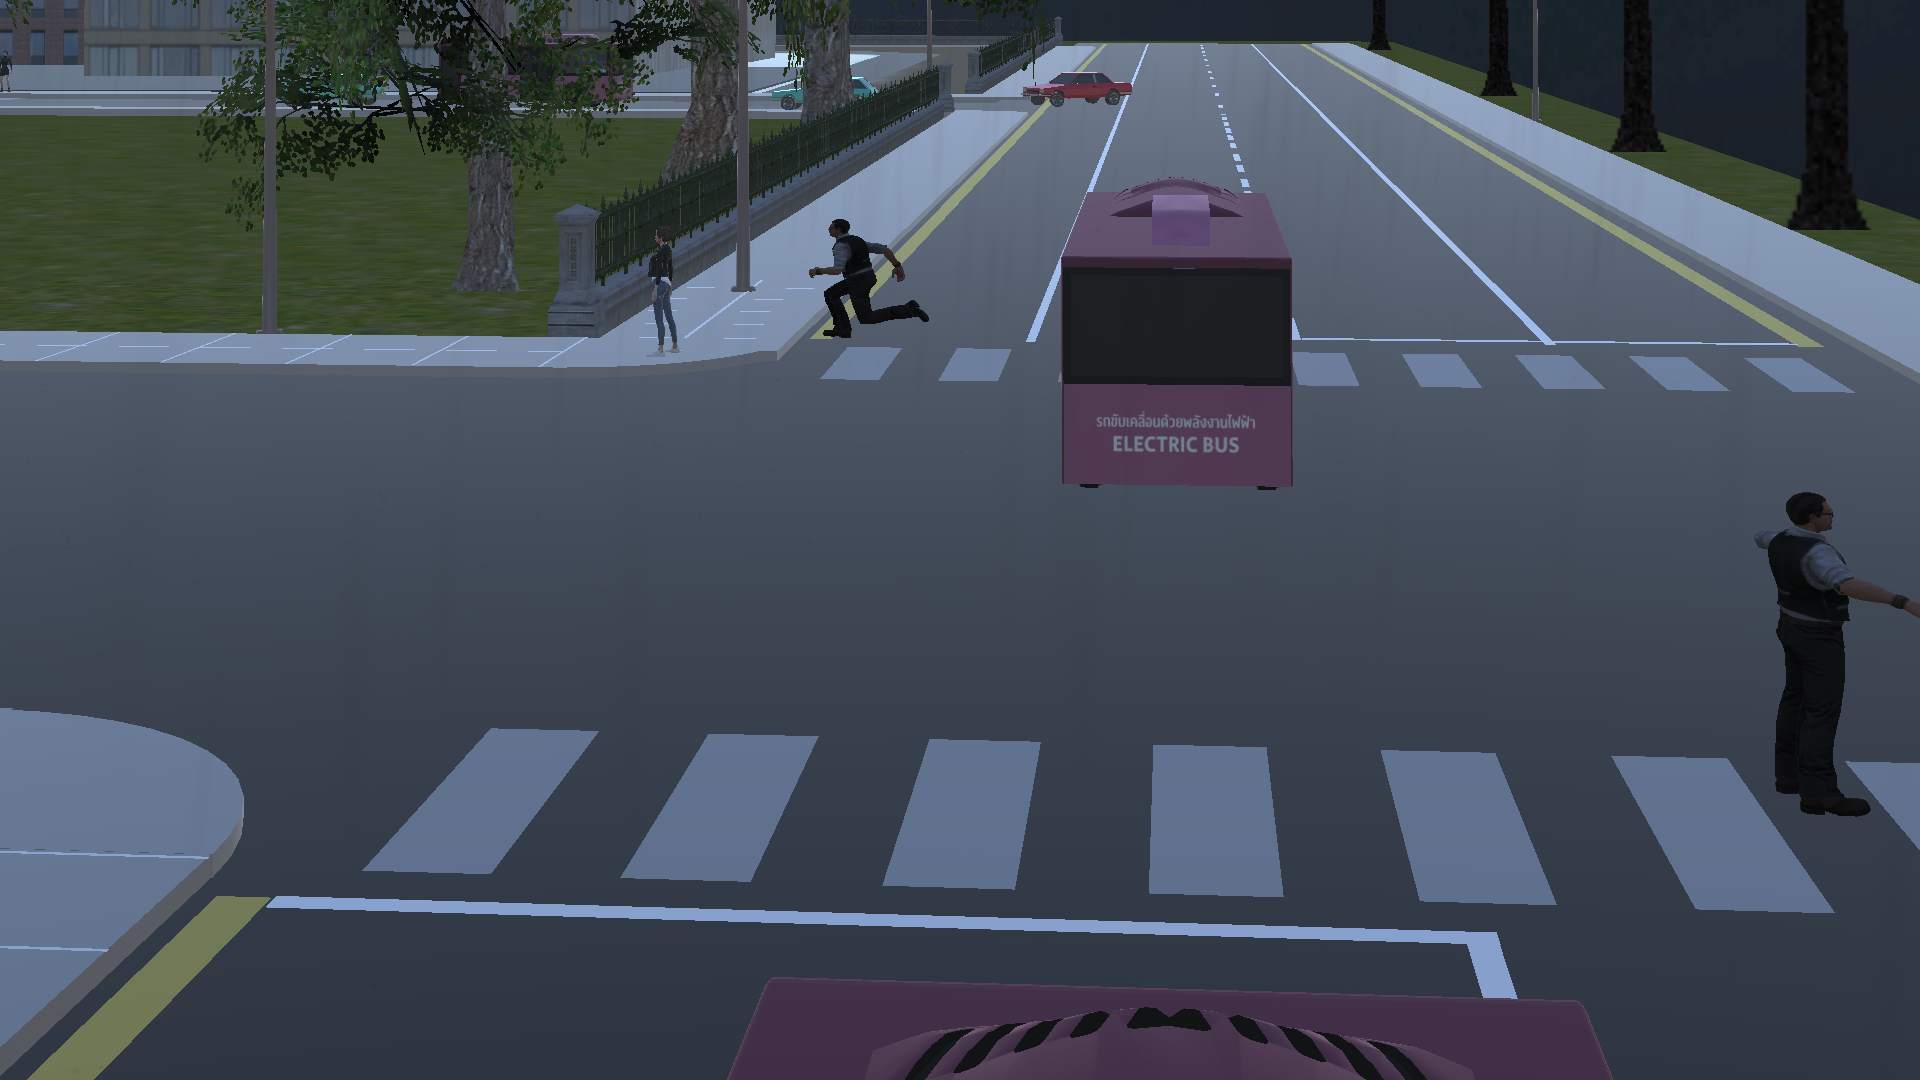pedestrian: (1734, 488, 1920, 829), (801, 212, 936, 373), (633, 220, 693, 367)
